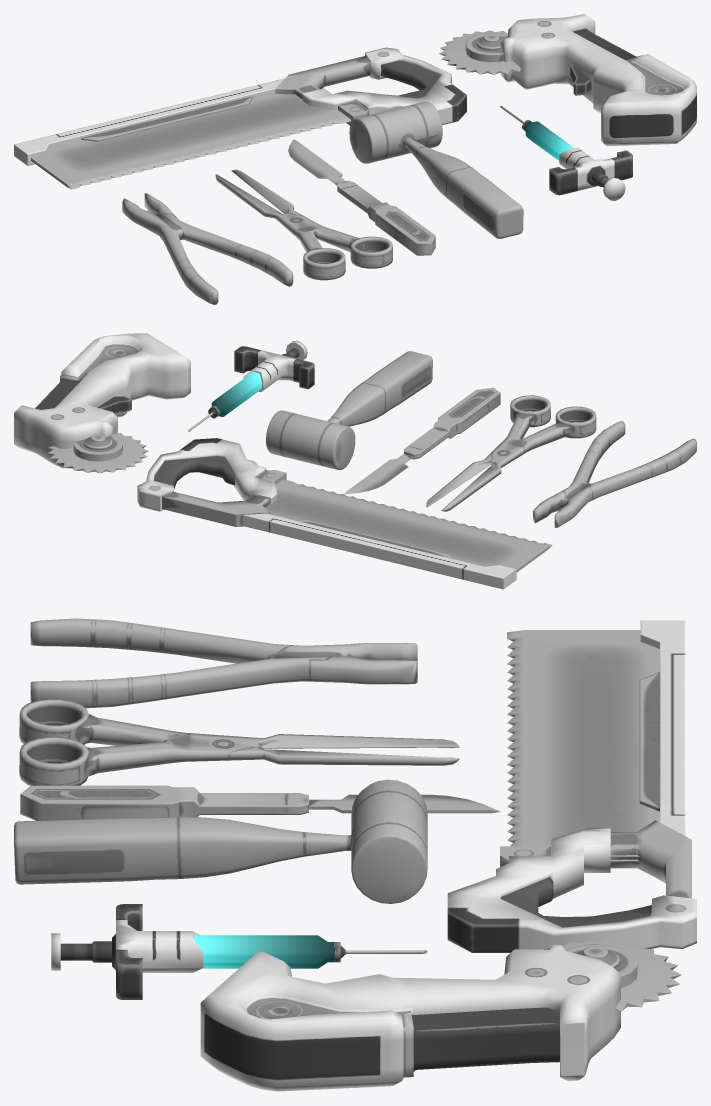
Rendered from MedInstruments01_1.FBX.
3 views of the same model, one above another, from view 1: azimuth 30°, elevation 25°; view 2: azimuth 150°, elevation 25°; view 3: azimuth 270°, elevation 25° (orthographic). The views are drawn at different scales.
Parts seen in each view (by area): view 1: MedInstruments01_1; view 2: MedInstruments01_1; view 3: MedInstruments01_1.
Part boxes in pixels (x1,y1,x2,y2): MedInstruments01_1: [14, 14, 696, 304]; MedInstruments01_1: [14, 333, 696, 589]; MedInstruments01_1: [14, 618, 696, 1091].
Size of what is drawn, in the model's own units: 0.6579 by 0.0527 by 0.4246.
